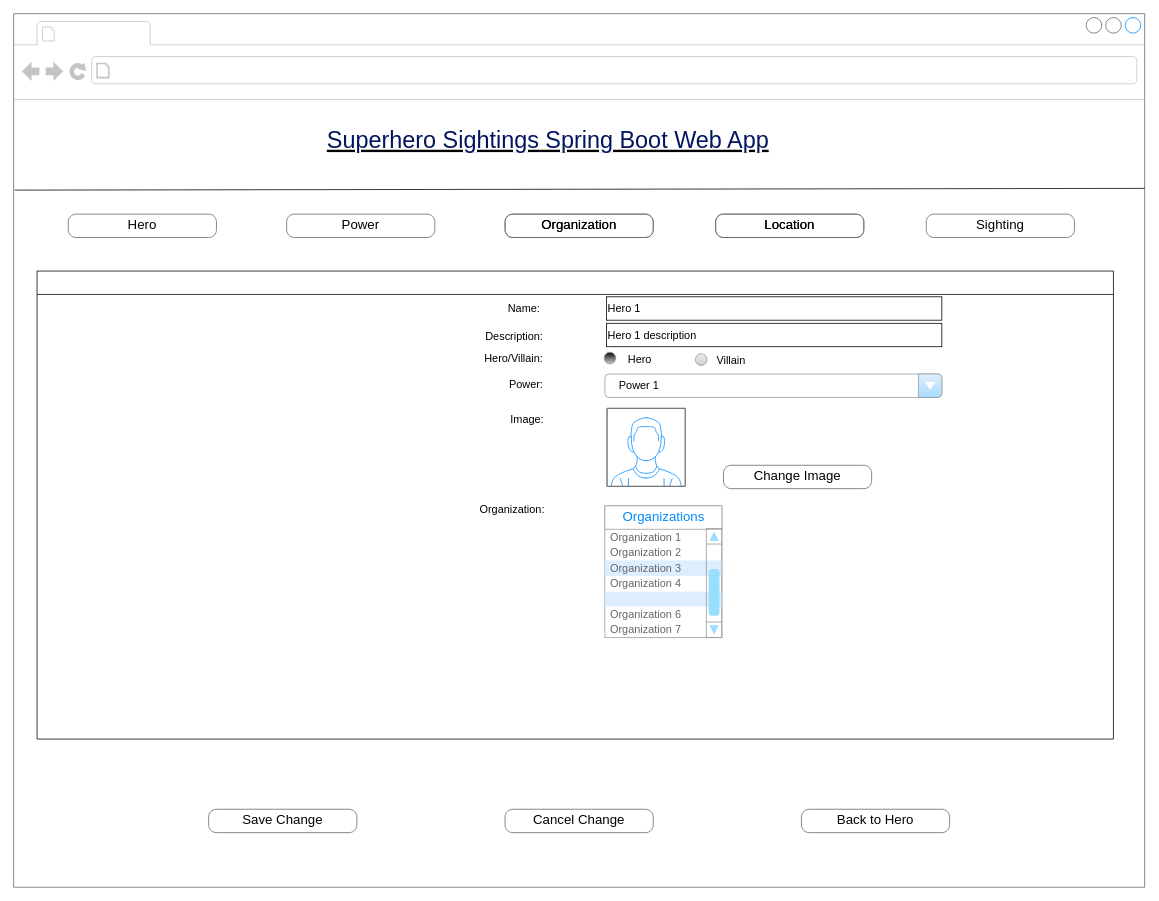
Image size: 1159x901. Some labels were removed from this diagram. Each missing label, with the box of its shape:
Edit Hero: (60, 22, 177, 43)
Edit Hero 1: (36, 270, 1113, 739)
https://www.default.com: (114, 60, 310, 81)
Organization 5: (605, 591, 722, 606)
